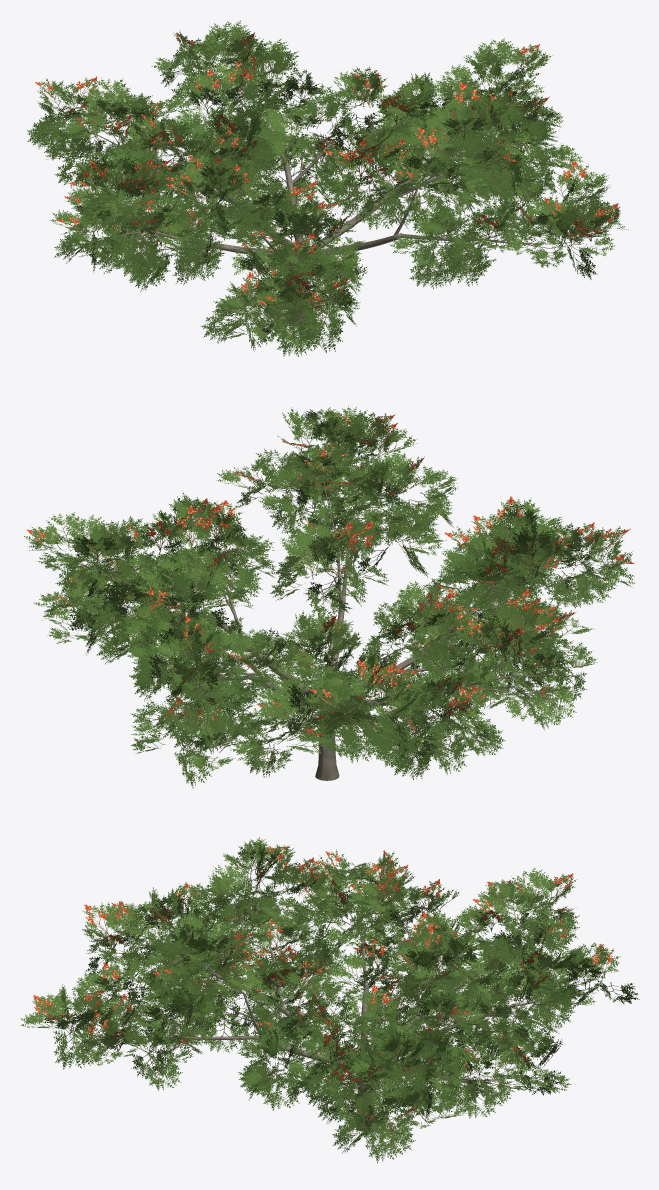
The model's file is Hououboku.gltf.
The picture shows the model from 3 angles, top to bottom: view 1: azimuth 30°, elevation 25°; view 2: azimuth 150°, elevation 25°; view 3: azimuth 270°, elevation 25°; orthographic projection. The views are drawn at different scales.
Visible parts, largest first — view 1: Hououboku; view 2: Hououboku; view 3: Hououboku.
Part boxes in pixels (box(x1,y1,x2,y2)): Hououboku: box(27, 21, 628, 356); Hououboku: box(24, 405, 634, 788); Hououboku: box(20, 837, 639, 1163).
Size of the model in its own units: 19.72 by 9.5 by 21.34.
2 materials, 2 textured.
